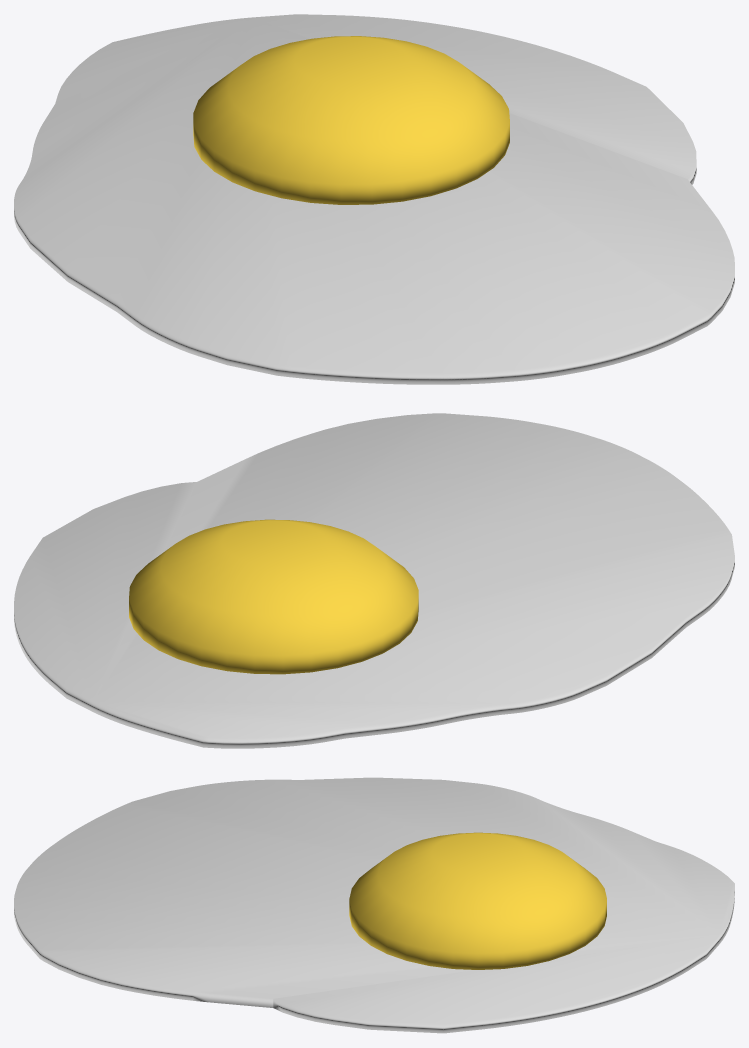
Rendered from egged.fbx.
The picture shows the model from 3 angles, top to bottom: view 1: azimuth 30°, elevation 25°; view 2: azimuth 150°, elevation 25°; view 3: azimuth 270°, elevation 25°; orthographic projection. The views are drawn at different scales.
Visible parts, largest first — view 1: egged; view 2: egged; view 3: egged.
Boxes of the visible parts, bbox=[...] form: egged: bbox=[14, 14, 734, 384]; egged: bbox=[14, 413, 734, 748]; egged: bbox=[14, 777, 734, 1033].
Bounding box in the file's own units: 115 × 15.64 × 142.
